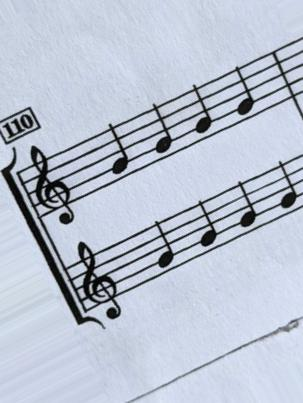note: (188, 199, 230, 254), (145, 99, 179, 161), (102, 122, 135, 180), (228, 67, 265, 118), (146, 220, 180, 274), (231, 183, 263, 239), (187, 83, 217, 139), (272, 157, 302, 213)
